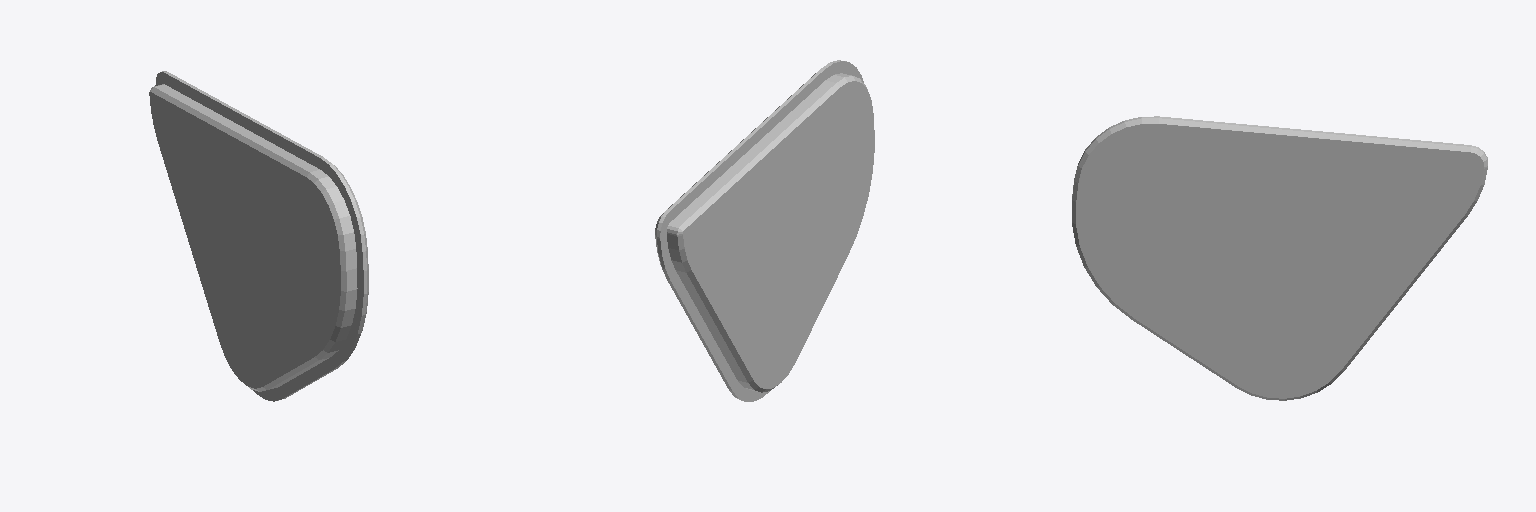
Rendered from converted_r3_finger_cover_small_left_808080ff.obj.
3 renders of one model, left to right at view 1: azimuth 30°, elevation 25°; view 2: azimuth 150°, elevation 25°; view 3: azimuth 270°, elevation 25°, orthographic.
Bounding box in the file's own units: 0.003 × 0.0373 × 0.0498.